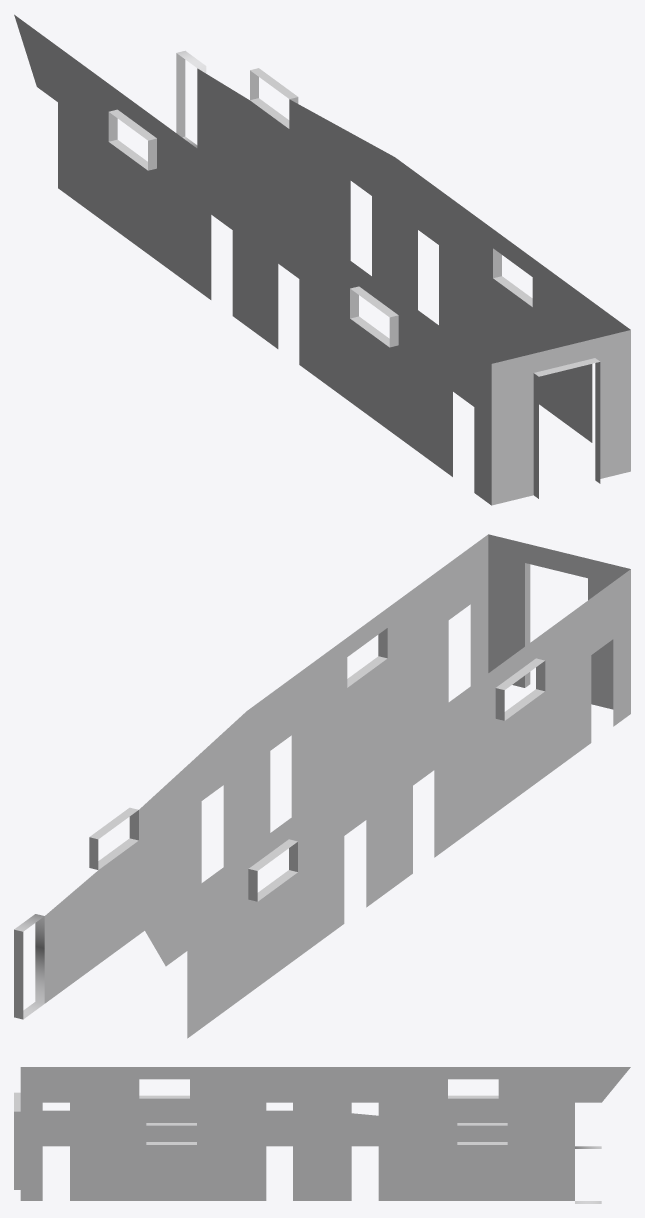
File: LouDao-62.FBX
3 views of the same model, one above another, from view 1: azimuth 30°, elevation 25°; view 2: azimuth 150°, elevation 25°; view 3: azimuth 270°, elevation 25° (orthographic). The views are drawn at different scales.
Visible parts, largest first — view 1: LouDao-62; view 2: LouDao-62; view 3: LouDao-62.
Boxes of the visible parts, x1,y1,x2,y2 form: LouDao-62: (14, 14, 630, 505); LouDao-62: (14, 534, 630, 1038); LouDao-62: (14, 1067, 630, 1203).
Size of the model in its own units: 3.84 by 3.3 by 20.39.
1 material, 1 textured.
